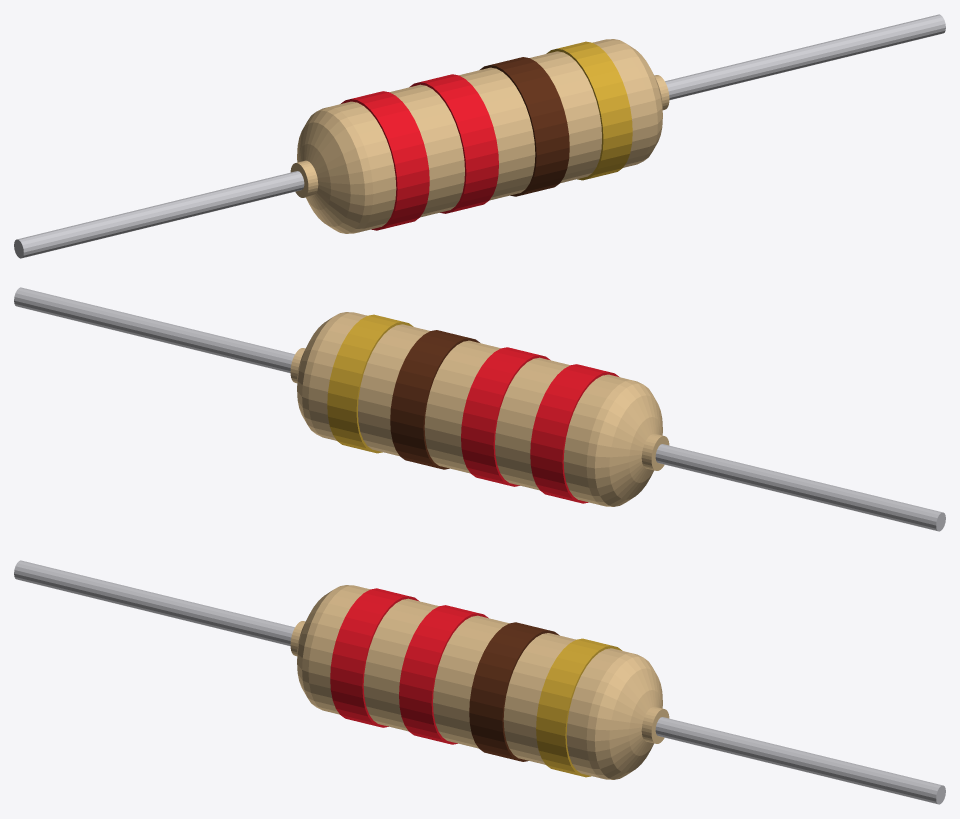
The model's file is resistencia_220_ohm.glb.
The picture shows the model from 3 angles, top to bottom: view 1: azimuth 30°, elevation 25°; view 2: azimuth 150°, elevation 25°; view 3: azimuth 330°, elevation 25°; orthographic projection.
Visible parts, largest first — view 1: Cuerpo_Resistencia, Terminal_Izq, Terminal_Der, Banda_3_Marron, Banda_2_Roja, Banda_1_Roja, Banda_4_Dorada; view 2: Cuerpo_Resistencia, Terminal_Izq, Terminal_Der, Banda_3_Marron, Banda_2_Roja, Banda_1_Roja, Banda_4_Dorada; view 3: Cuerpo_Resistencia, Terminal_Der, Terminal_Izq, Banda_3_Marron, Banda_2_Roja, Banda_1_Roja, Banda_4_Dorada.
Boxes of the visible parts, box(x1,y1,x2,y2) form: Cuerpo_Resistencia: box(290, 39, 669, 233); Terminal_Izq: box(14, 171, 304, 258); Terminal_Der: box(665, 14, 945, 100); Banda_3_Marron: box(480, 57, 569, 196); Banda_2_Roja: box(409, 74, 498, 213); Banda_1_Roja: box(341, 91, 429, 230); Banda_4_Dorada: box(546, 41, 632, 180); Cuerpo_Resistencia: box(290, 312, 669, 506); Terminal_Izq: box(655, 444, 945, 531); Terminal_Der: box(14, 287, 294, 373); Banda_3_Marron: box(390, 330, 479, 469); Banda_2_Roja: box(461, 347, 550, 486); Banda_1_Roja: box(530, 364, 618, 503); Banda_4_Dorada: box(327, 314, 413, 453); Cuerpo_Resistencia: box(290, 585, 669, 779); Terminal_Der: box(655, 717, 945, 804); Terminal_Izq: box(14, 560, 294, 646); Banda_3_Marron: box(469, 622, 559, 761); Banda_2_Roja: box(399, 605, 488, 744); Banda_1_Roja: box(330, 588, 419, 727); Banda_4_Dorada: box(536, 638, 622, 777).
Size of the model in its own units: 0.0253 by 0.00321 by 0.00321.
